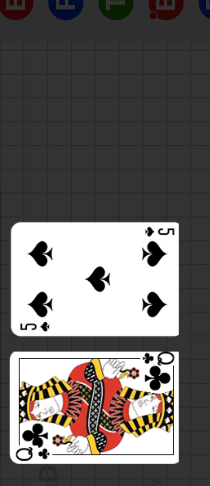5S: (18, 321, 51, 333), (142, 227, 175, 239)
QC: (132, 353, 179, 397), (12, 420, 58, 464)
